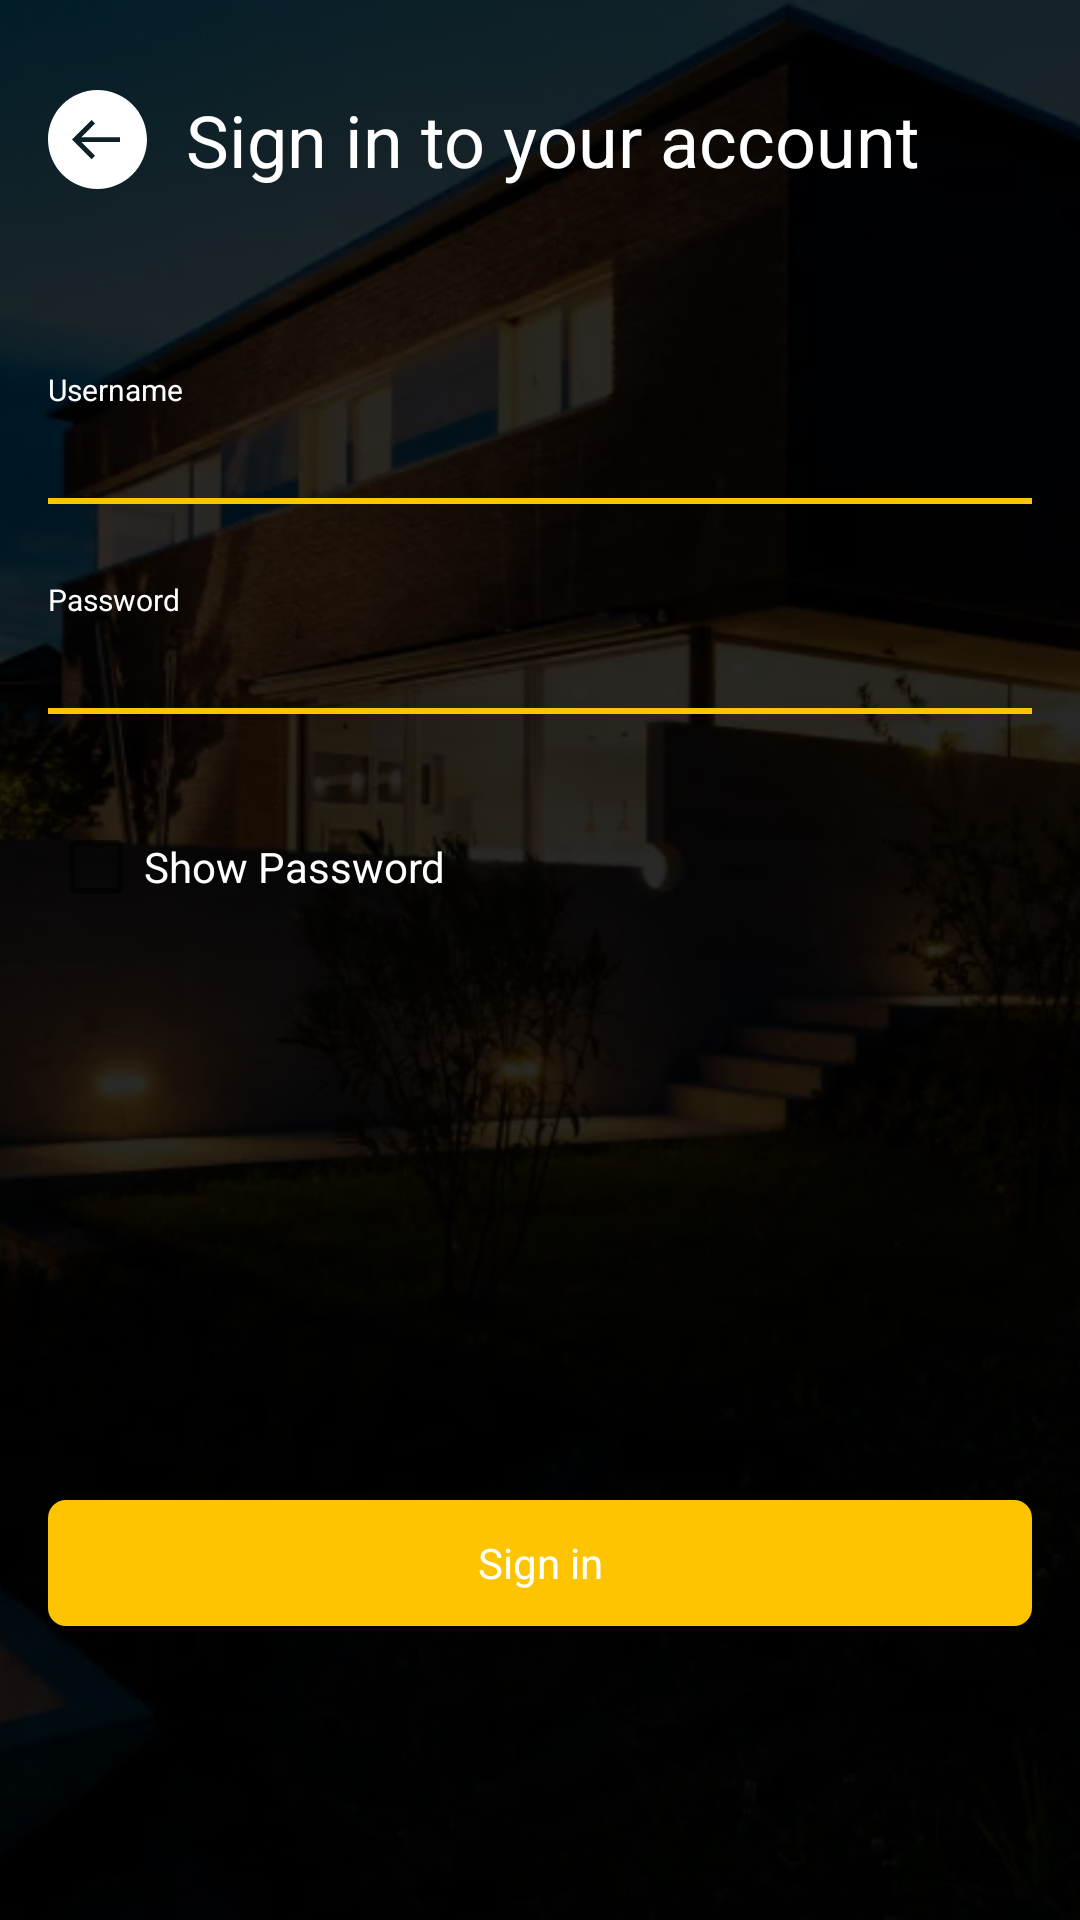

Icon click points for this 1080×1920 phone screenshot, format (x=x, y=y):
back arrow: (x=97, y=139)
